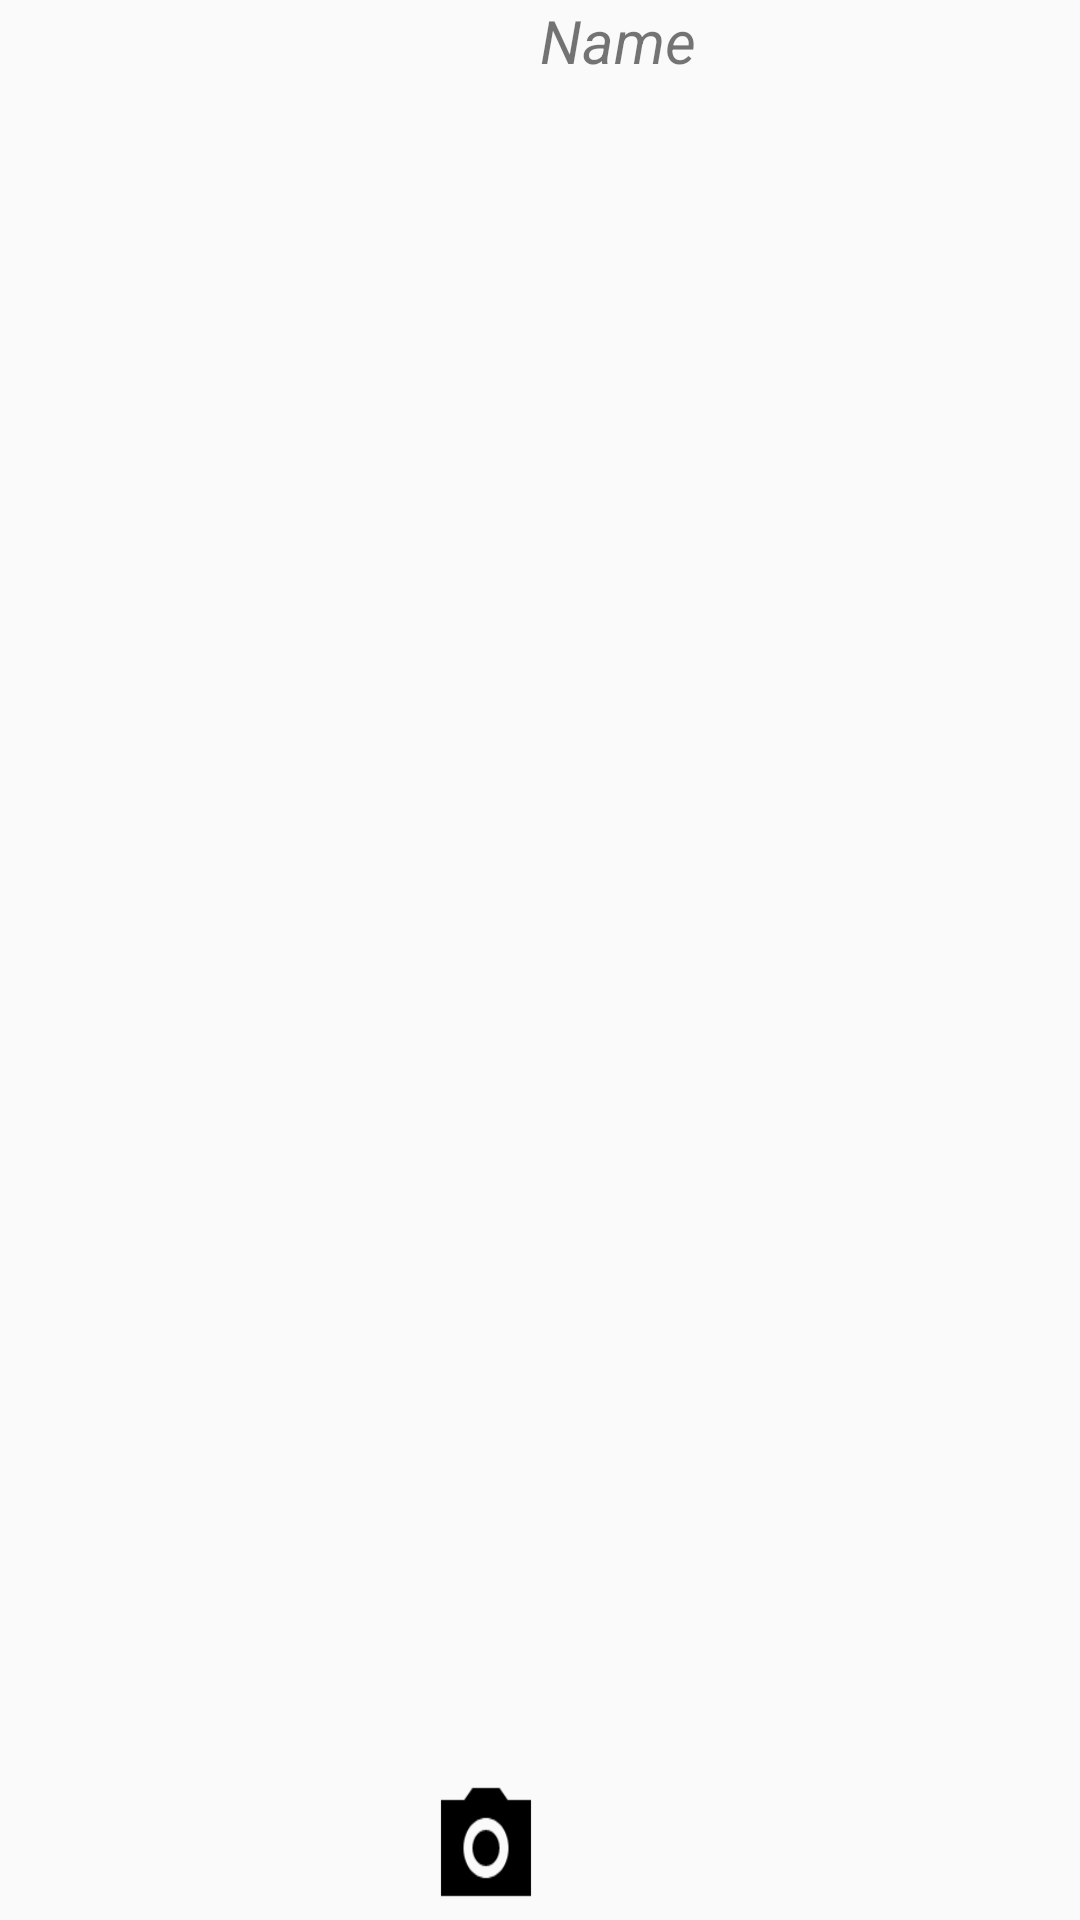

Screen size 1080 x 1920. Icon name, then its box in pixels as (x1, y1, x2, y2):
photochooser: (441, 1787, 531, 1897)
